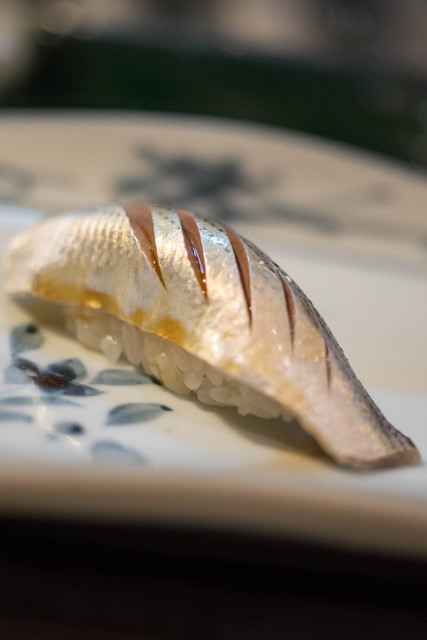spotted-shad: (9, 197, 427, 484)
